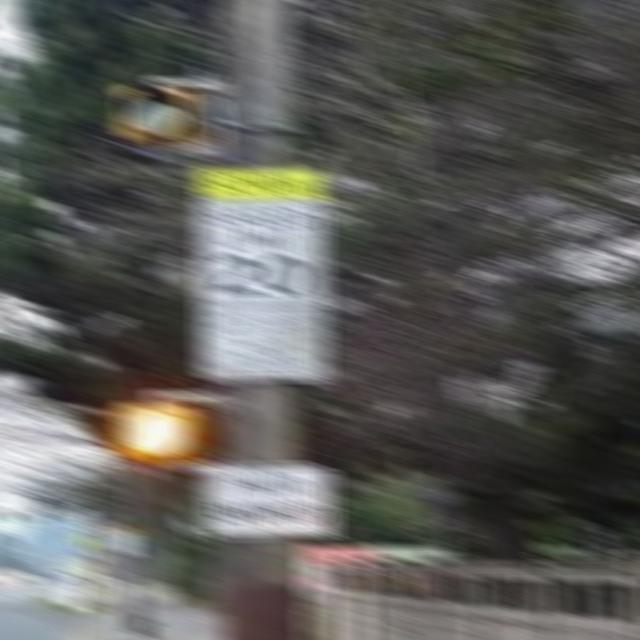speedLimit20: (193, 203, 326, 310)
